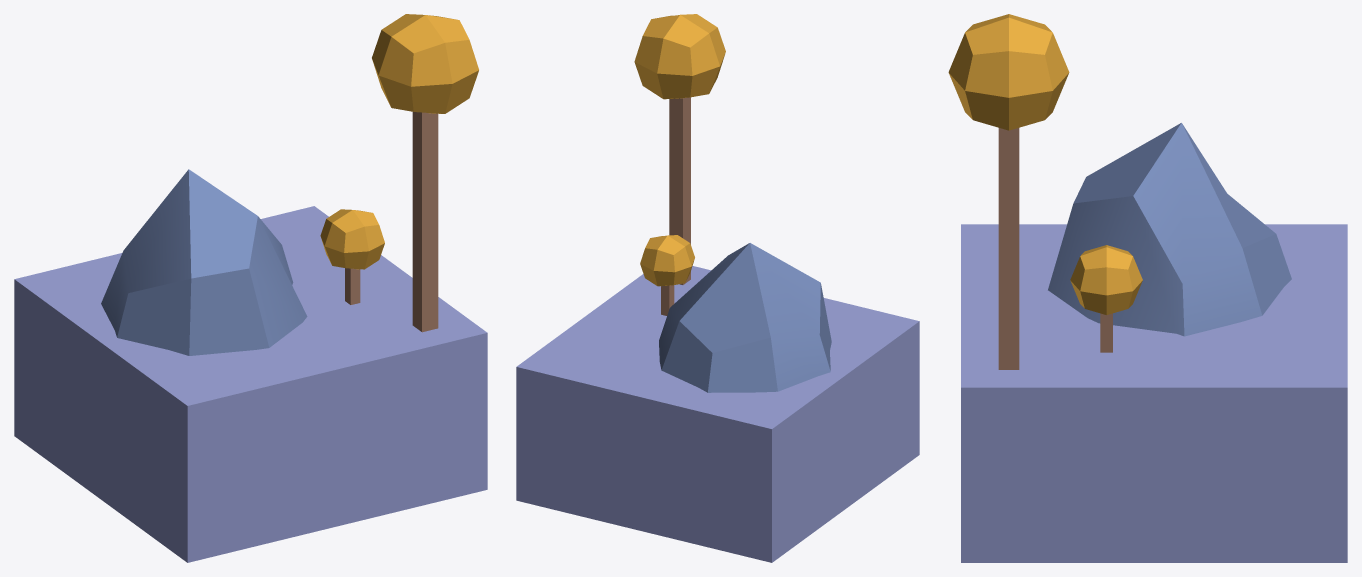
File: rockWithFlowers.fbx
3 views of the same model, side by side, from view 1: azimuth 30°, elevation 25°; view 2: azimuth 150°, elevation 25°; view 3: azimuth 270°, elevation 25° (orthographic). The views are drawn at different scales.
Visible parts, largest first — view 1: rockAndFlowers; view 2: rockAndFlowers; view 3: rockAndFlowers.
Boxes of the visible parts, left/top/right/bottom form: rockAndFlowers: left=14, top=14, right=487, bottom=562; rockAndFlowers: left=516, top=14, right=919, bottom=562; rockAndFlowers: left=948, top=14, right=1347, bottom=562.
Bounding box in the file's own units: 204 × 299 × 206.
